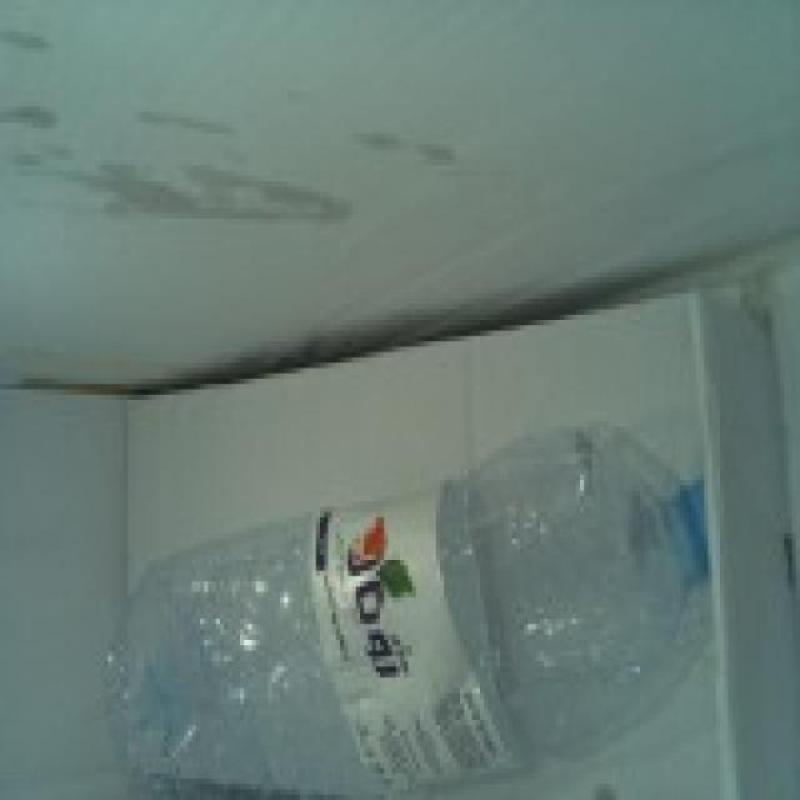botella: (109, 430, 712, 792)
